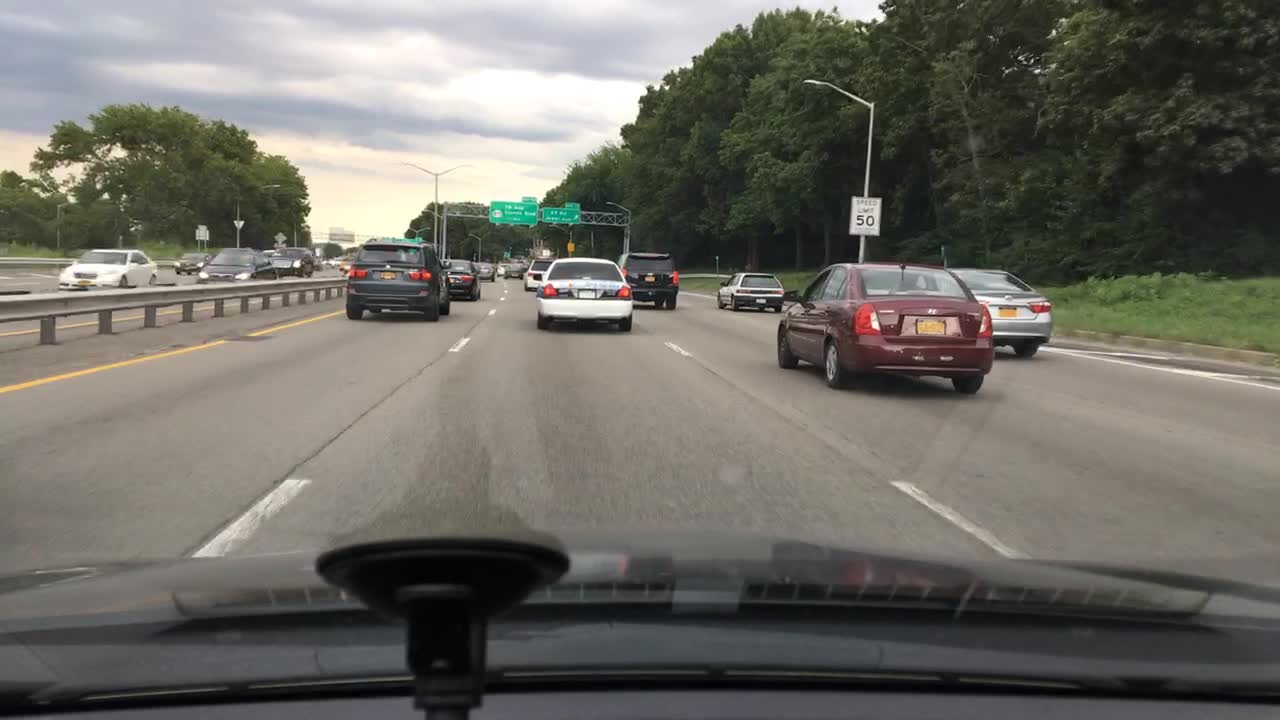car: (776, 262, 993, 396), (343, 242, 455, 328), (945, 268, 1055, 354), (531, 259, 633, 331), (57, 249, 157, 291), (620, 254, 680, 308), (195, 247, 277, 284), (716, 272, 781, 313), (442, 262, 482, 301), (270, 248, 316, 278), (521, 262, 551, 294), (172, 250, 209, 274), (476, 262, 492, 281), (506, 264, 526, 278), (336, 257, 353, 270)
traffic sign: (489, 197, 536, 225), (848, 195, 880, 235), (541, 202, 581, 222), (328, 228, 351, 243), (195, 223, 209, 240), (274, 232, 286, 247), (234, 218, 245, 227)
